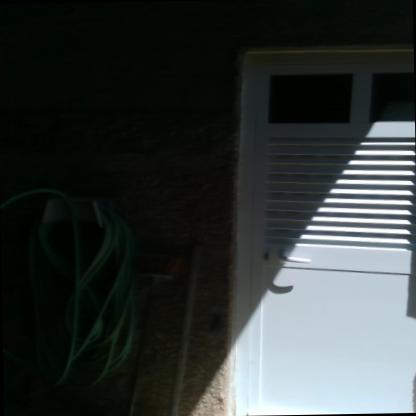closed: (222, 42, 416, 415)
